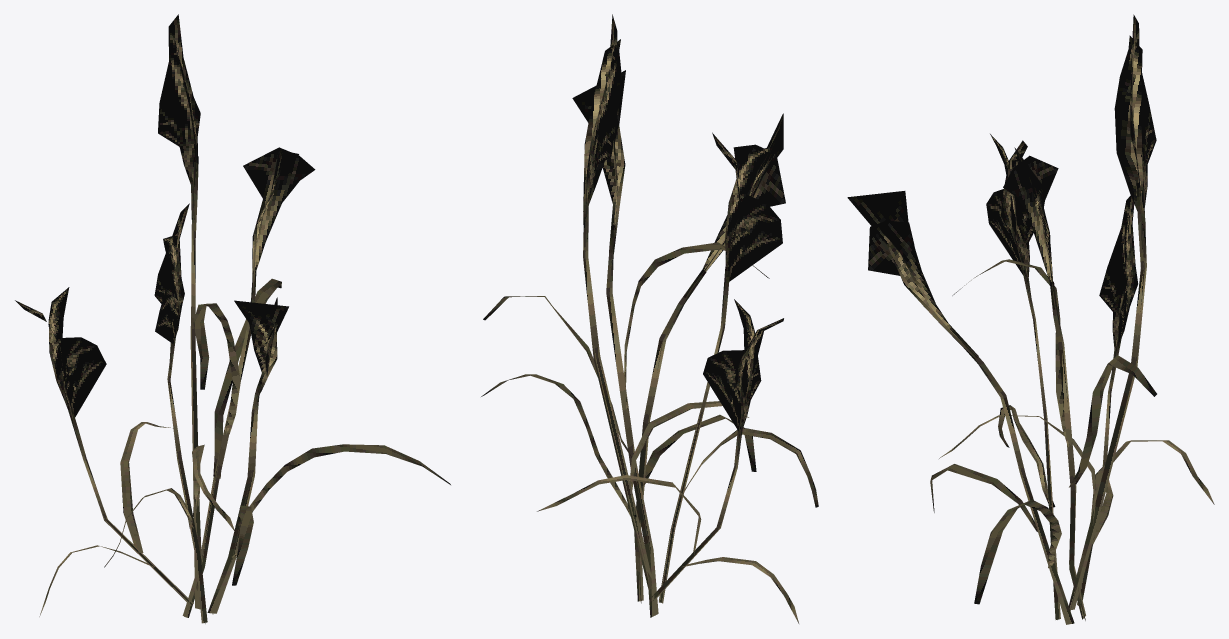
The model's file is natural-dry-fiber-quiet.glb.
3 renders of one model, left to right at view 1: azimuth 30°, elevation 25°; view 2: azimuth 150°, elevation 25°; view 3: azimuth 270°, elevation 25°, orthographic. The views are drawn at different scales.
Visible parts, largest first — view 1: natural-dry-fiber-quiet runtime mesh; view 2: natural-dry-fiber-quiet runtime mesh; view 3: natural-dry-fiber-quiet runtime mesh.
Part boxes in pixels (x1,y1,x2,y2): natural-dry-fiber-quiet runtime mesh: (15, 14, 450, 623); natural-dry-fiber-quiet runtime mesh: (481, 14, 818, 623); natural-dry-fiber-quiet runtime mesh: (847, 14, 1214, 624).
Bounding box in the file's own units: 0.272 × 0.42 × 0.2278.
1 material, 1 textured.
